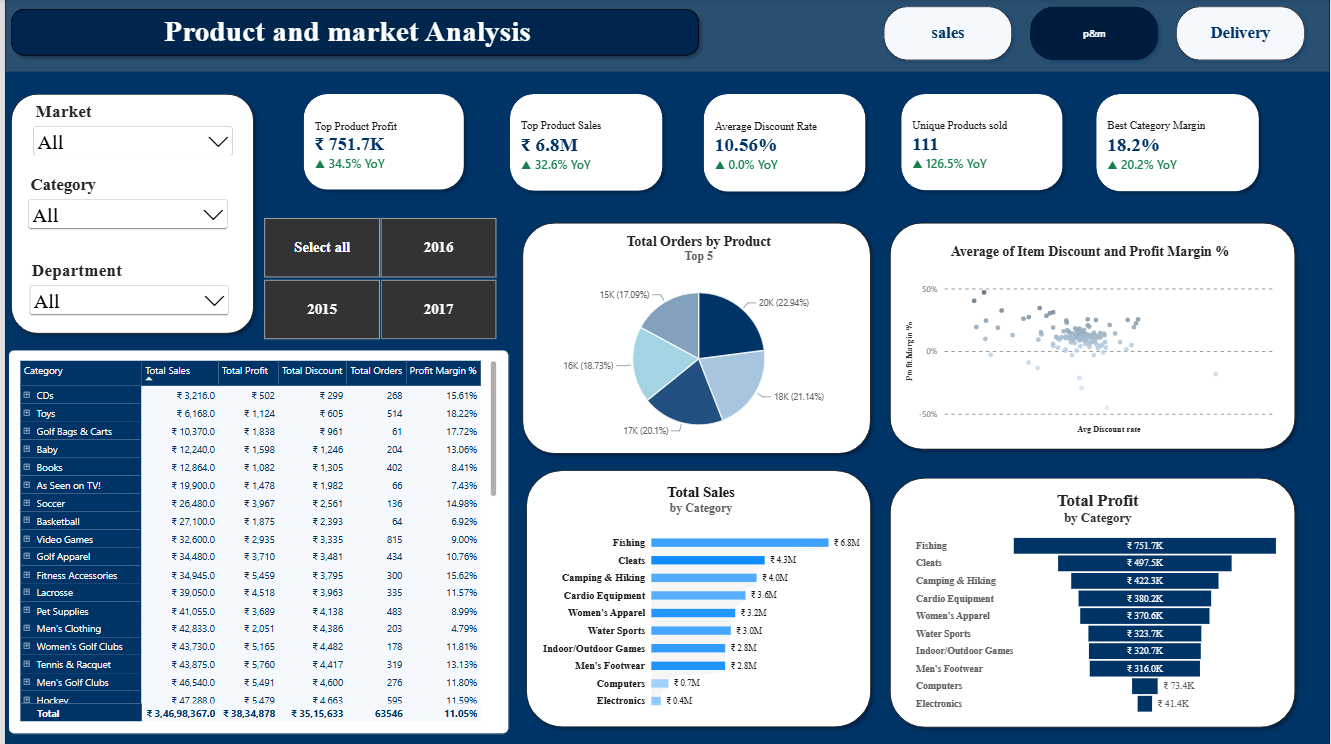

Layout of this report page (visuals, bound fields, positions):
{"tool":"powerbi","page":{"name":"p&m","canvas":[1920,1080],"ordinal":1},"visuals":[{"type":"shape","box":[0,0,1920,1081],"z":0},{"type":"shape","box":[0,6.3,1014.3,85.6],"z":0,"group":"g10"},{"type":"shape","box":[423.7,129.4,250.1,156.7],"z":0,"group":"g1"},{"type":"shape","box":[722.1,129.4,238.8,158.2],"z":0,"group":"g2"},{"type":"shape","box":[1003.8,129.4,252.2,159.6],"z":0,"group":"g5"},{"type":"shape","box":[1289.7,129.4,251.7,157.5],"z":0,"group":"g4"},{"type":"shape","box":[1571.5,129.4,253.7,159.1],"z":0,"group":"g3"},{"type":"shape","box":[742,315.1,522.6,352.7],"z":0,"group":"g6"},{"type":"shape","box":[1273,315.1,605.2,346.4],"z":0,"group":"g7"},{"type":"shape","box":[747.1,674.1,517.6,390.3],"z":0,"group":"g9"},{"type":"shape","box":[1273,684.5,605.2,379.8],"z":0,"group":"g8"},{"type":"textbox","box":[6.1,22.7,989.7,69.2],"z":1000,"group":"g10"},{"type":"shape","box":[0,129.4,369.4,365.2],"z":1000},{"type":"funnel","fields":{"Category":["DataCoSupplyChainDataset_clean_processing.Category"],"Y":["DataCoSupplyChainDataset_clean_processing.Total Profit"]},"box":[1304.1,699.3,558.5,352],"z":1000,"group":"g8"},{"type":"pivotTable","fields":{"Rows":["DataCoSupplyChainDataset_clean_processing.Category","DataCoSupplyChainDataset_clean_processing.Product_ Name"],"Values":["DataCoSupplyChainDataset_clean_processing.Total Sales","DataCoSupplyChainDataset_clean_processing.Total Profit","DataCoSupplyChainDataset_clean_processing.Total Discount","DataCoSupplyChainDataset_clean_processing.Total Orders","DataCoSupplyChainDataset_clean_processing.Profit Margin %"]},"box":[6.3,509.2,724.2,555.1],"z":2000},{"type":"barChart","fields":{"Category":["DataCoSupplyChainDataset_clean_processing.Category"],"Y":["DataCoSupplyChainDataset_clean_processing.Total Sales"]},"box":[763,688.3,491.7,361.8],"z":2000,"group":"g9"},{"type":"slicer","fields":{"Values":["DataCoSupplyChainDataset_clean_processing.Market"]},"box":[35.5,148.2,298.4,77.2],"z":3000},{"type":"scatterChart","title":"Average of Item Discount and Profit Margin %","fields":{"Category":["DataCoSupplyChainDataset_clean_processing.Order Country"],"X":["Avg(DataCoSupplyChainDataset_clean_processing.Item_Discount_Amount)"],"Y":["DataCoSupplyChainDataset_clean_processing.Profit Margin %"]},"box":[1290,340.5,564.7,305.1],"z":3000,"group":"g7"},{"type":"slicer","fields":{"Values":["DataCoSupplyChainDataset_clean_processing.Category"]},"box":[29.2,254.6,298.4,110.6],"z":4000},{"type":"pieChart","title":"Total Orders by Product","fields":{"Category":["DataCoSupplyChainDataset_clean_processing.Product_ Name"],"Y":["DataCoSupplyChainDataset_clean_processing.Total Orders"]},"box":[663.7,326.7,684.5,333.9],"z":5000,"group":"g6"},{"type":"slicer","fields":{"Values":["DataCoSupplyChainDataset_clean_processing.Department_Name"]},"box":[31.3,377.7,298.4,110.6],"z":5000},{"type":"group","id":"g1","title":"p2 kpi profit","box":[423.7,129.4,250.4,158.6],"z":6000},{"type":"group","id":"g2","title":"p1 kpi sales","box":[722.1,129.4,237.9,158.6],"z":7000},{"type":"group","id":"g3","title":"p2 kpi p margin","box":[1571.5,129.4,252.5,160.7],"z":8000},{"type":"group","id":"g4","title":"unique kpi pro","box":[1289.7,129.4,252.5,158.6],"z":9000},{"type":"cardVisual","title":"Top Product Sales","fields":{"Data":["DataCoSupplyChainDataset_clean_processing.Top Product in Profit"]},"box":[433.5,148.6,233.8,106.2],"z":9000,"group":"g1"},{"type":"cardVisual","title":"Top Product Sales","fields":{"Data":["DataCoSupplyChainDataset_clean_processing.Top Product in sales"]},"box":[731.5,148.7,223.2,107.3],"z":9000,"group":"g2"},{"type":"cardVisual","title":"unique pro sold","fields":{"Data":["DataCoSupplyChainDataset_clean_processing.Unique Products sold"]},"box":[1299.6,148.7,235.3,106.8],"z":9000,"group":"g4"},{"type":"cardVisual","title":"Top Product Sales","fields":{"Data":["DataCoSupplyChainDataset_clean_processing.Best Category Margin"]},"box":[1581.5,148.8,237.2,107.8],"z":9000,"group":"g3"},{"type":"cardVisual","title":"Top Product Sales","fields":{"Data":["DataCoSupplyChainDataset_clean_processing.Average Discount Rate"]},"box":[1013.7,148.9,235.7,108.2],"z":9000,"group":"g5"},{"type":"group","id":"g5","title":"dis kpi ","box":[1003.8,129.4,252.5,158.6],"z":10000},{"type":"cardVisual","fields":{"Data":["DataCoSupplyChainDataset_clean_processing.Top Product Profit Indicator"]},"box":[433.5,207.7,161.8,62.7],"z":10000,"group":"g1"},{"type":"cardVisual","fields":{"Data":["DataCoSupplyChainDataset_clean_processing.Unique Products Sold Indicator"]},"box":[1299.6,208.2,162.9,63],"z":10000,"group":"g4"},{"type":"cardVisual","fields":{"Data":["DataCoSupplyChainDataset_clean_processing.Top Product Sales Indicator"]},"box":[731.5,208.5,154.5,63.3],"z":10000,"group":"g2"},{"type":"cardVisual","fields":{"Data":["DataCoSupplyChainDataset_clean_processing.Best Category Margin Indicator"]},"box":[1581.5,208.9,164.2,63.6],"z":10000,"group":"g3"},{"type":"cardVisual","fields":{"Data":["DataCoSupplyChainDataset_clean_processing.Average Discount Indicator"]},"box":[1013.7,209.2,163.2,63.8],"z":10000,"group":"g5"},{"type":"group","id":"g6","title":"Group 1","box":[663.7,315.1,684.5,352.7],"z":11000},{"type":"group","id":"g7","title":"Group 2","box":[1273,315.1,605.2,346.4],"z":12000},{"type":"group","id":"g8","title":"Group 3","box":[1273,684.5,605.2,379.8],"z":13000},{"type":"group","id":"g9","title":"Group 4","box":[747.1,674.1,517.6,390.3],"z":14000},{"type":"slicer","fields":{"Values":["Date Table.Year"]},"box":[354.8,315.1,375.7,179.5],"z":15000},{"type":"shape","box":[0,0,1920,106.4],"z":16000},{"type":"group","id":"g10","title":"Group 5","box":[0,6.3,1014.3,85.6],"z":17000},{"type":"pageNavigator","box":[1264.7,2.1,628.2,96],"z":19001}]}

Visuals, with their boxes in screenshot pixels (x1, y1, x2, y2), scaled from the page's 1920x1080 canvas onto the 1331x744 screenshot:
shape: 0, 0, 1330, 743
shape: 0, 4, 703, 63
shape: 294, 89, 467, 197
shape: 501, 89, 666, 198
shape: 696, 89, 871, 199
shape: 894, 89, 1069, 198
shape: 1089, 89, 1265, 199
shape: 514, 217, 877, 460
shape: 882, 217, 1302, 456
shape: 518, 464, 877, 733
shape: 882, 472, 1302, 733
textbox: 4, 16, 690, 63
shape: 0, 89, 256, 341
funnel - DataCoSupplyChainDataset_clean_processing.Category x DataCoSupplyChainDataset_clean_processing.Total Profit: 904, 482, 1291, 724
pivotTable - DataCoSupplyChainDataset_clean_processing.Category x DataCoSupplyChainDataset_clean_processing.Product_ Name: 4, 351, 506, 733
barChart - DataCoSupplyChainDataset_clean_processing.Category x DataCoSupplyChainDataset_clean_processing.Total Sales: 529, 474, 870, 723
slicer - DataCoSupplyChainDataset_clean_processing.Market: 25, 102, 231, 155
"Average of Item Discount and Profit Margin %" scatterChart: 894, 235, 1286, 445
slicer - DataCoSupplyChainDataset_clean_processing.Category: 20, 175, 227, 252
"Total Orders by Product" pieChart: 460, 225, 935, 455
slicer - DataCoSupplyChainDataset_clean_processing.Department_Name: 22, 260, 229, 336
"p2 kpi profit" group: 294, 89, 467, 198
"p1 kpi sales" group: 501, 89, 666, 198
"p2 kpi p margin" group: 1089, 89, 1264, 200
"unique kpi pro" group: 894, 89, 1069, 198
"Top Product Sales" cardVisual: 301, 102, 463, 176
"Top Product Sales" cardVisual: 507, 102, 662, 176
"unique pro sold" cardVisual: 901, 102, 1064, 176
"Top Product Sales" cardVisual: 1096, 103, 1261, 177
"Top Product Sales" cardVisual: 703, 103, 866, 177
"dis kpi " group: 696, 89, 871, 198
cardVisual - DataCoSupplyChainDataset_clean_processing.Top Product Profit Indicator: 301, 143, 413, 186
cardVisual - DataCoSupplyChainDataset_clean_processing.Unique Products Sold Indicator: 901, 143, 1014, 187
cardVisual - DataCoSupplyChainDataset_clean_processing.Top Product Sales Indicator: 507, 144, 614, 187
cardVisual - DataCoSupplyChainDataset_clean_processing.Best Category Margin Indicator: 1096, 144, 1210, 188
cardVisual - DataCoSupplyChainDataset_clean_processing.Average Discount Indicator: 703, 144, 816, 188
"Group 1" group: 460, 217, 935, 460
"Group 2" group: 882, 217, 1302, 456
"Group 3" group: 882, 472, 1302, 733
"Group 4" group: 518, 464, 877, 733
slicer - Date Table.Year: 246, 217, 506, 341
shape: 0, 0, 1330, 73
"Group 5" group: 0, 4, 703, 63
pageNavigator: 877, 1, 1312, 68
